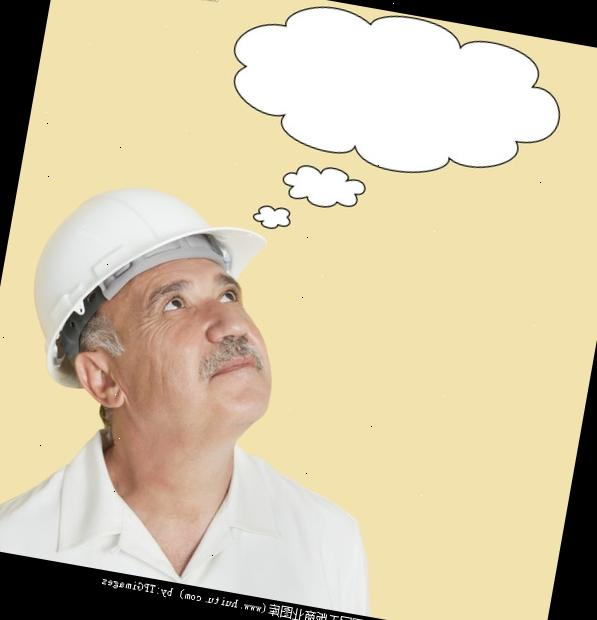helmet: (17, 174, 286, 418)
